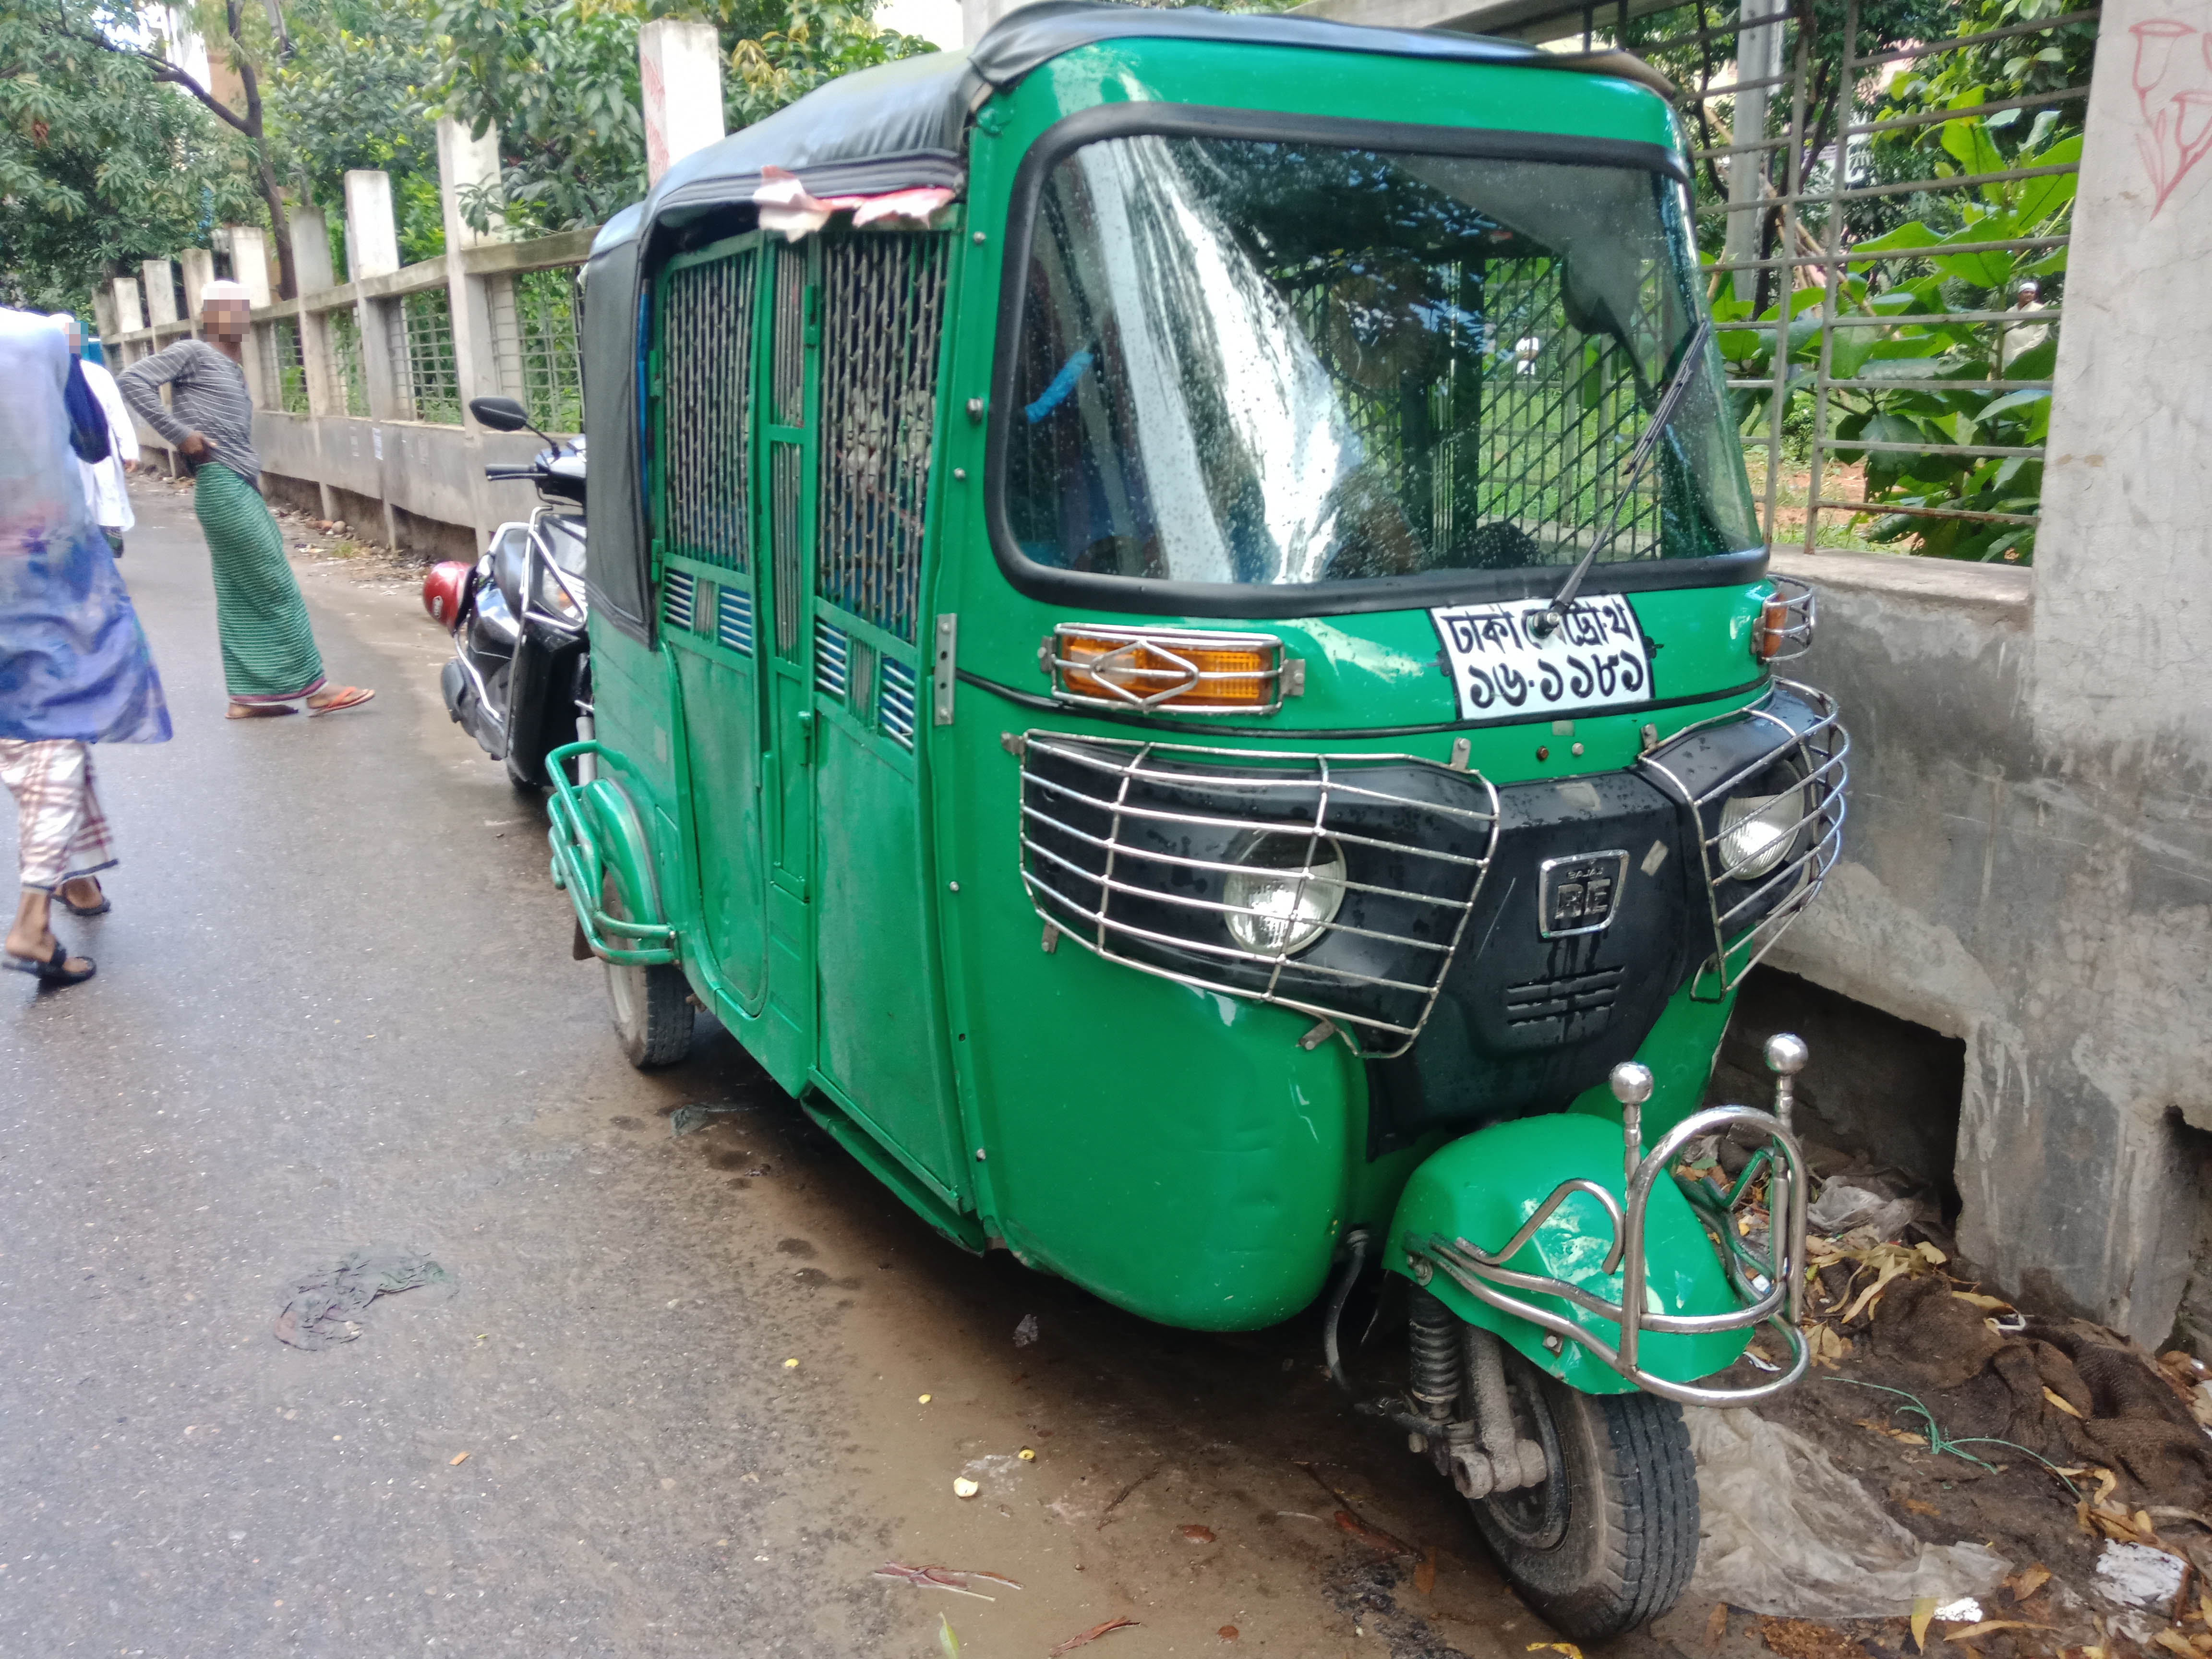bike: (411, 376, 604, 807)
cng: (528, 3, 1860, 1647)
